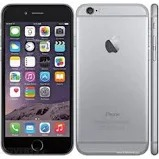iphone: (76, 2, 151, 159), (1, 1, 75, 158)
iphone6: (1, 1, 75, 158)
